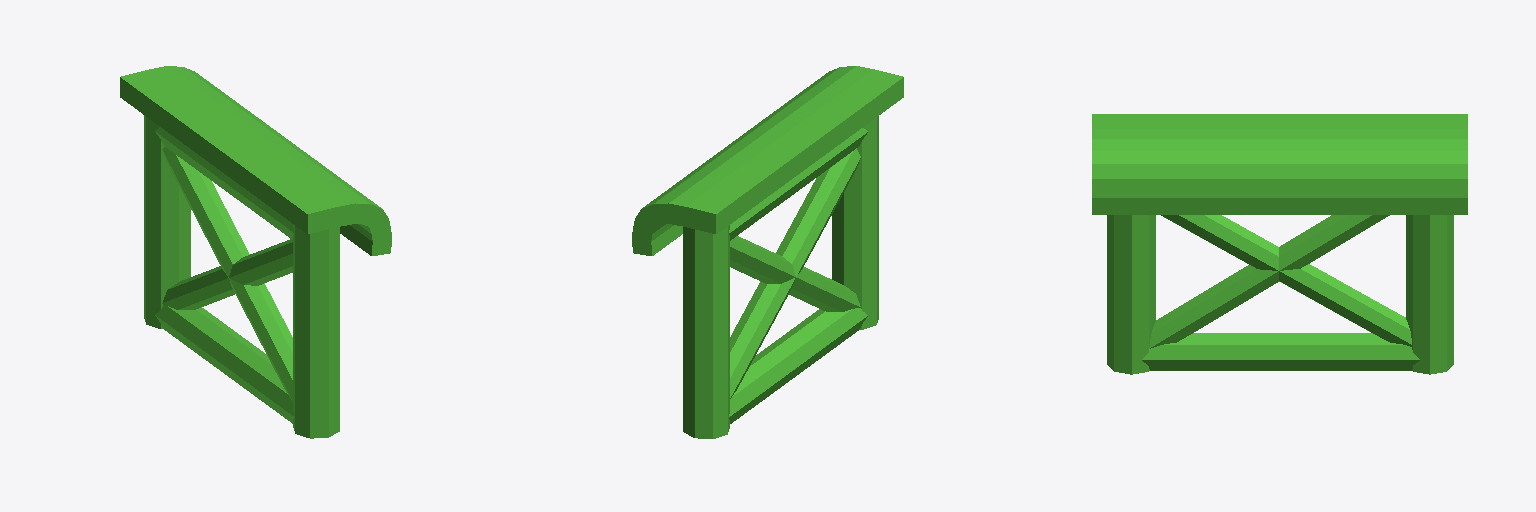
File: bamboo_table_left.obj
3 views of the same model, side by side, from view 1: azimuth 30°, elevation 25°; view 2: azimuth 150°, elevation 25°; view 3: azimuth 270°, elevation 25° (orthographic).
Parts seen in each view (by area): view 1: bamboo_table_left; view 2: bamboo_table_left; view 3: bamboo_table_left.
Part boxes in pixels (x1,y1,x2,y2): bamboo_table_left: (120,66,391,438); bamboo_table_left: (632,66,903,438); bamboo_table_left: (1092,114,1467,374).
Size of the model in its own units: 17.78 by 48.43 by 68.24.